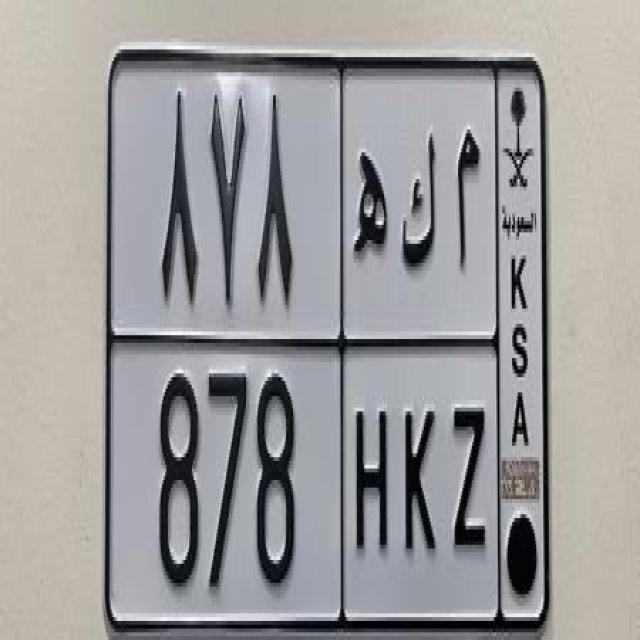license_plate: (100, 337, 504, 632)
